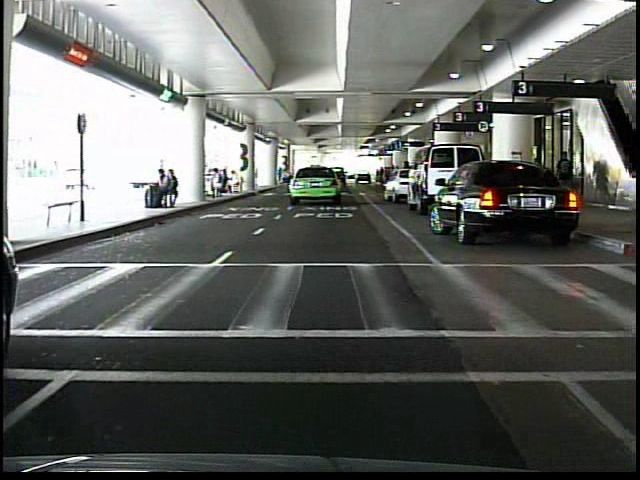person: (555, 149, 577, 208)
